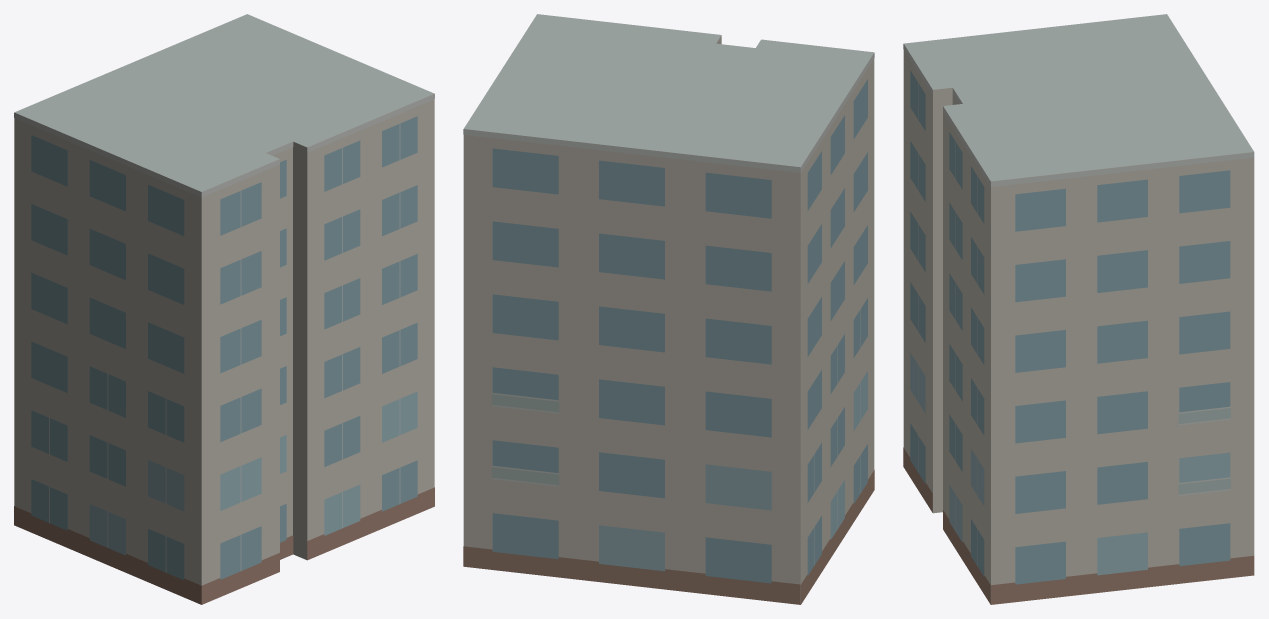
File: survey-upis-32671249.glb
The picture shows the model from 3 angles, left to right: view 1: azimuth 30°, elevation 25°; view 2: azimuth 150°, elevation 25°; view 3: azimuth 270°, elevation 25°; orthographic projection. The views are drawn at different scales.
Parts seen in each view (by area): view 1: survey-upis-32671249.tmp; view 2: survey-upis-32671249.tmp; view 3: survey-upis-32671249.tmp.
Boxes of the visible parts, left/top/right/bottom form: survey-upis-32671249.tmp: left=14, top=14, right=434, bottom=604; survey-upis-32671249.tmp: left=463, top=14, right=874, bottom=604; survey-upis-32671249.tmp: left=903, top=14, right=1254, bottom=604.
Size of the model in its own units: 15.53 by 18.3 by 13.75.
